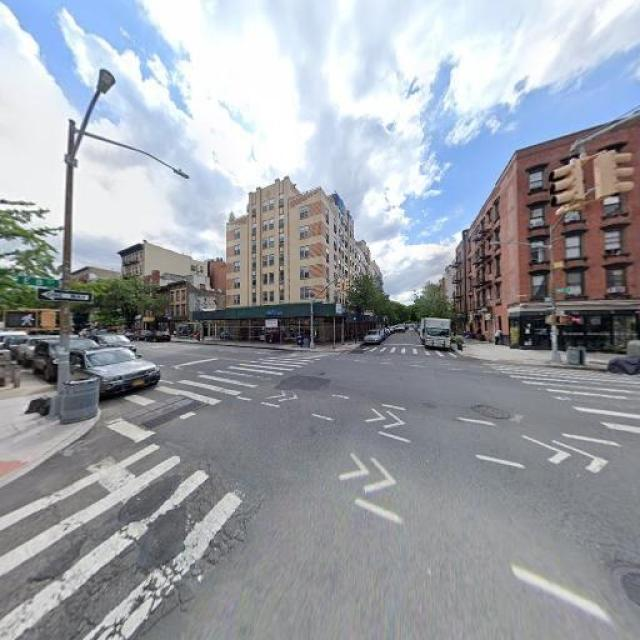Building: (460, 110, 640, 344), (229, 187, 369, 343)
